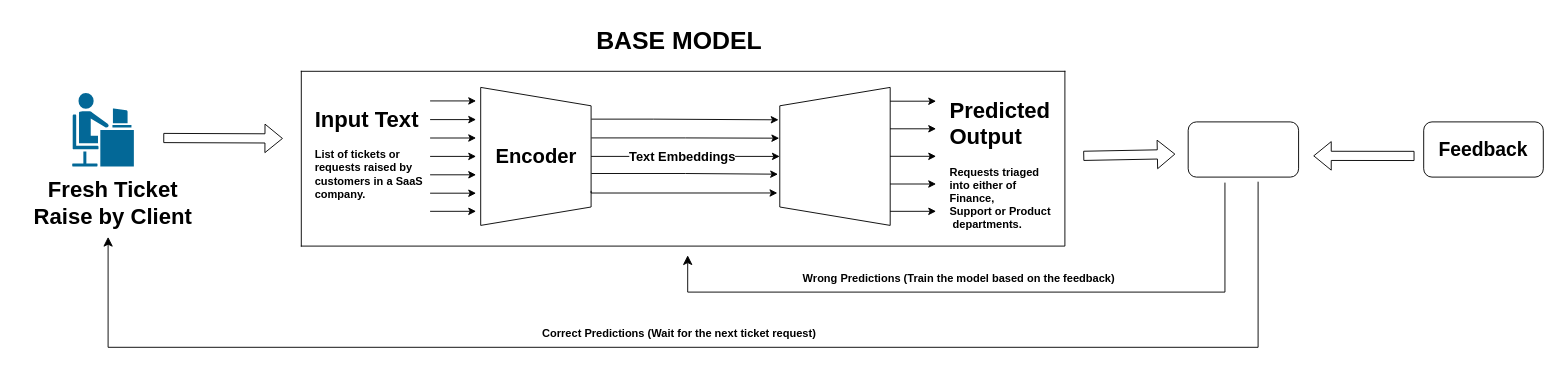
Some shapes in this 1559 by 373 pixel diagram are drawn without their labels. Here are the shapes that lost their labels. From the top down, the box of each, then its label:
(779, 86, 890, 225): Decoder
(1187, 121, 1299, 177): SME Triaging
